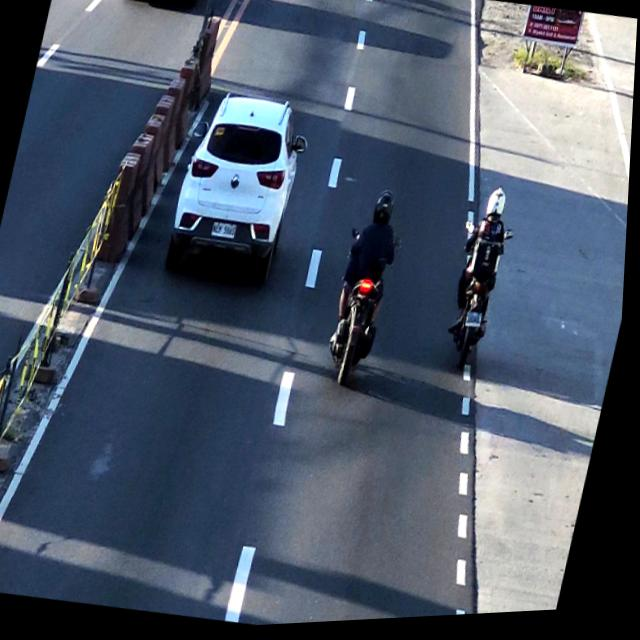Car: (164, 90, 314, 293)
License-Plate: (211, 222, 241, 243), (467, 314, 487, 335)
Motorcycle: (328, 193, 409, 387), (445, 188, 521, 380)
